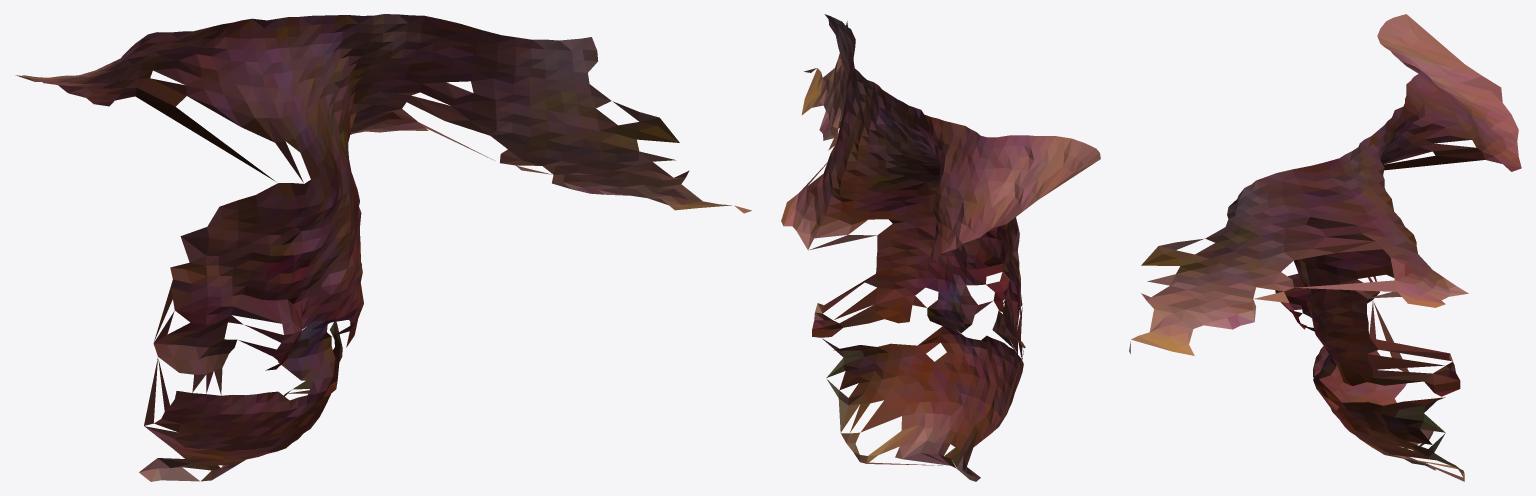
3 views of the same model, side by side, from view 1: azimuth 30°, elevation 25°; view 2: azimuth 150°, elevation 25°; view 3: azimuth 270°, elevation 25° (orthographic). The views are drawn at different scales.
Visible parts, largest first — view 1: ofMesh; view 2: ofMesh; view 3: ofMesh.
Boxes of the visible parts, box(x1,y1,x2,y2) form: ofMesh: box(15, 14, 751, 481); ofMesh: box(781, 14, 1100, 481); ofMesh: box(1129, 14, 1521, 481).
Bounding box in the file's own units: 360 × 276 × 269.
1 material, 1 textured.
